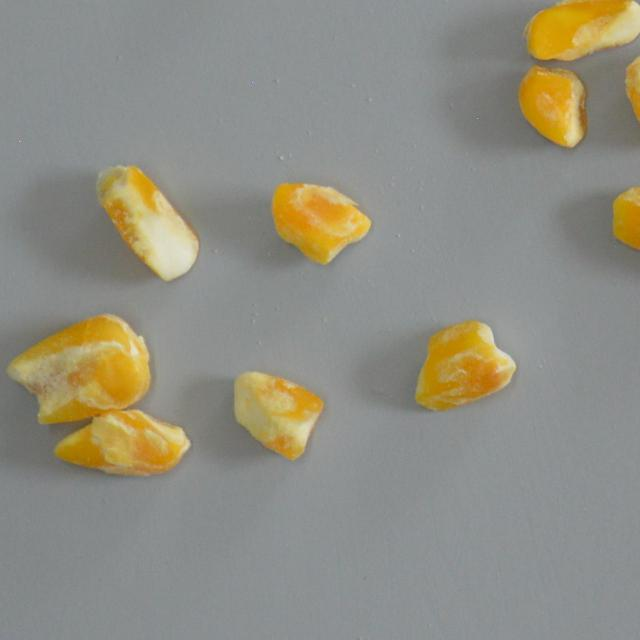pelicula: (34, 301, 138, 442), (418, 319, 521, 422), (276, 160, 366, 274), (86, 374, 160, 510), (112, 151, 178, 288), (230, 364, 312, 464), (520, 0, 640, 58), (514, 66, 592, 146), (618, 38, 640, 150), (628, 151, 640, 290)
